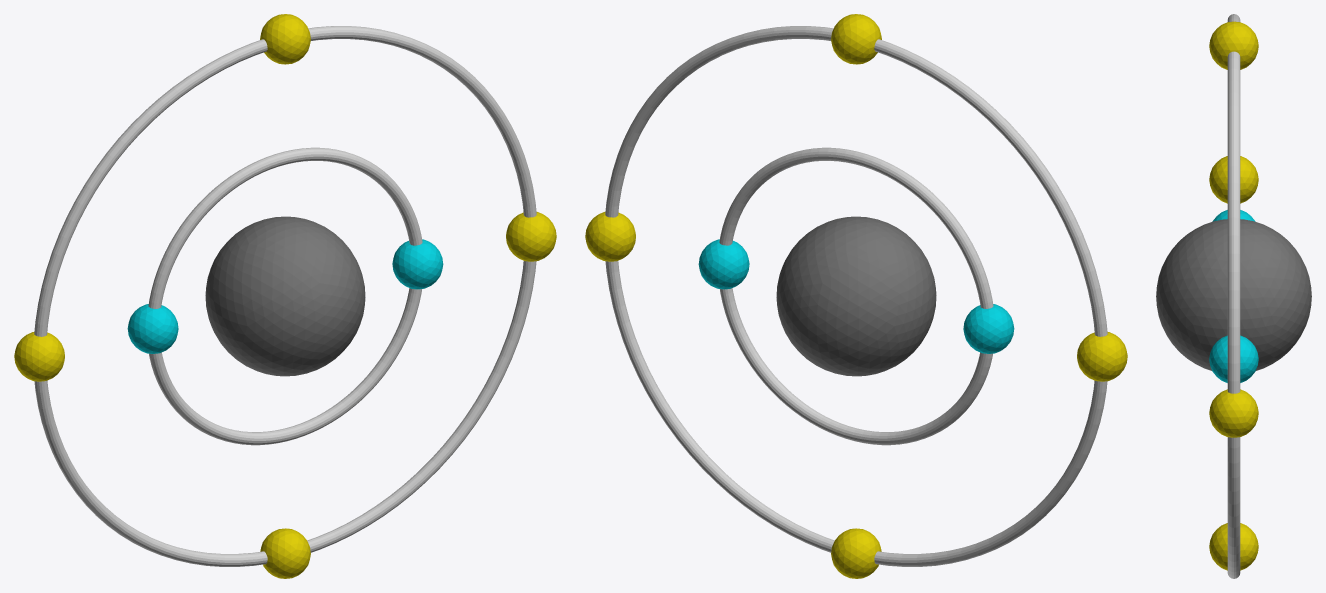
3 views of the same model, side by side, from view 1: azimuth 30°, elevation 25°; view 2: azimuth 150°, elevation 25°; view 3: azimuth 270°, elevation 25° (orthographic). The views are drawn at different scales.
Parts seen in each view (by area): view 1: Nucleo_C, Camada_2, Camada_1, e1_2, e2_3, e2_2, e2_1, e1_1, e2_4; view 2: Nucleo_C, Camada_2, Camada_1, e1_2, e2_3, e2_2, e2_1, e1_1, e2_4; view 3: Nucleo_C, Camada_2, e2_1, e2_2, e2_3, e2_4, e1_1.
Part boxes in pixels (x1,y1,x2,y2): Nucleo_C: (205,216,365,376); Camada_2: (34,26,536,566); Camada_1: (148,147,422,445); e1_2: (127,304,178,353); e2_3: (14,332,64,381); e2_2: (260,14,310,64); e2_1: (506,212,556,261); e1_1: (392,239,443,289); e2_4: (260,528,310,578); Nucleo_C: (776,216,936,376); Camada_2: (605,26,1107,566); Camada_1: (719,147,993,445); e1_2: (963,304,1014,353); e2_3: (1077,332,1127,381); e2_2: (831,14,881,64); e2_1: (585,212,635,261); e1_1: (698,239,749,289); e2_4: (831,528,881,578); Nucleo_C: (1156,219,1311,370); Camada_2: (1227,14,1240,578); e2_1: (1209,389,1258,437); e2_2: (1209,21,1258,69); e2_3: (1209,156,1258,203); e2_4: (1209,523,1258,570); e1_1: (1209,335,1258,382).
Bounding box in the file's own units: 1.7 × 1.7 × 0.44.
